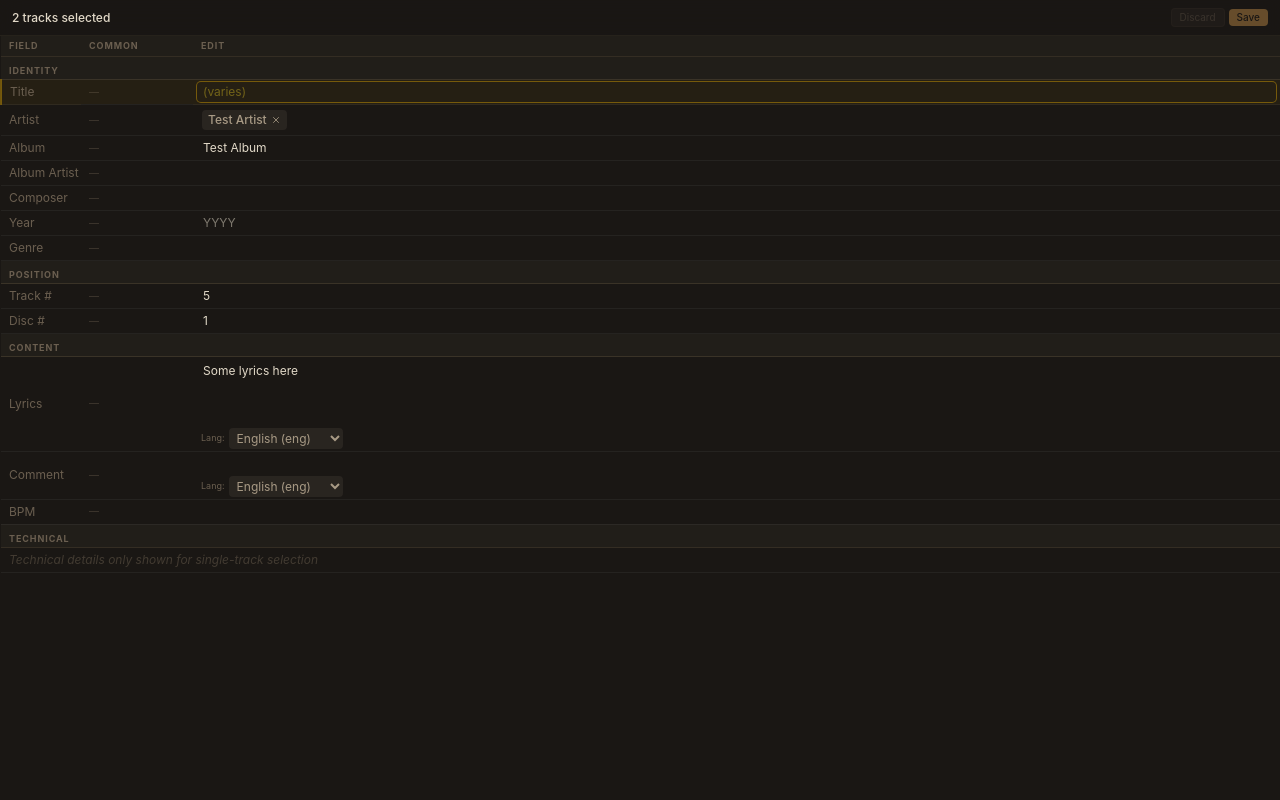
Test: TrackEditorPanel › multi-select divergence › editing a divergent field marks it as edited
Expected: the button "Save" is shown, [1229, 9, 1268, 26]
Type "New Title" into the field with placeholder "(varies)".
click(736, 92); type("New Title")  # box [197, 82, 1276, 102]
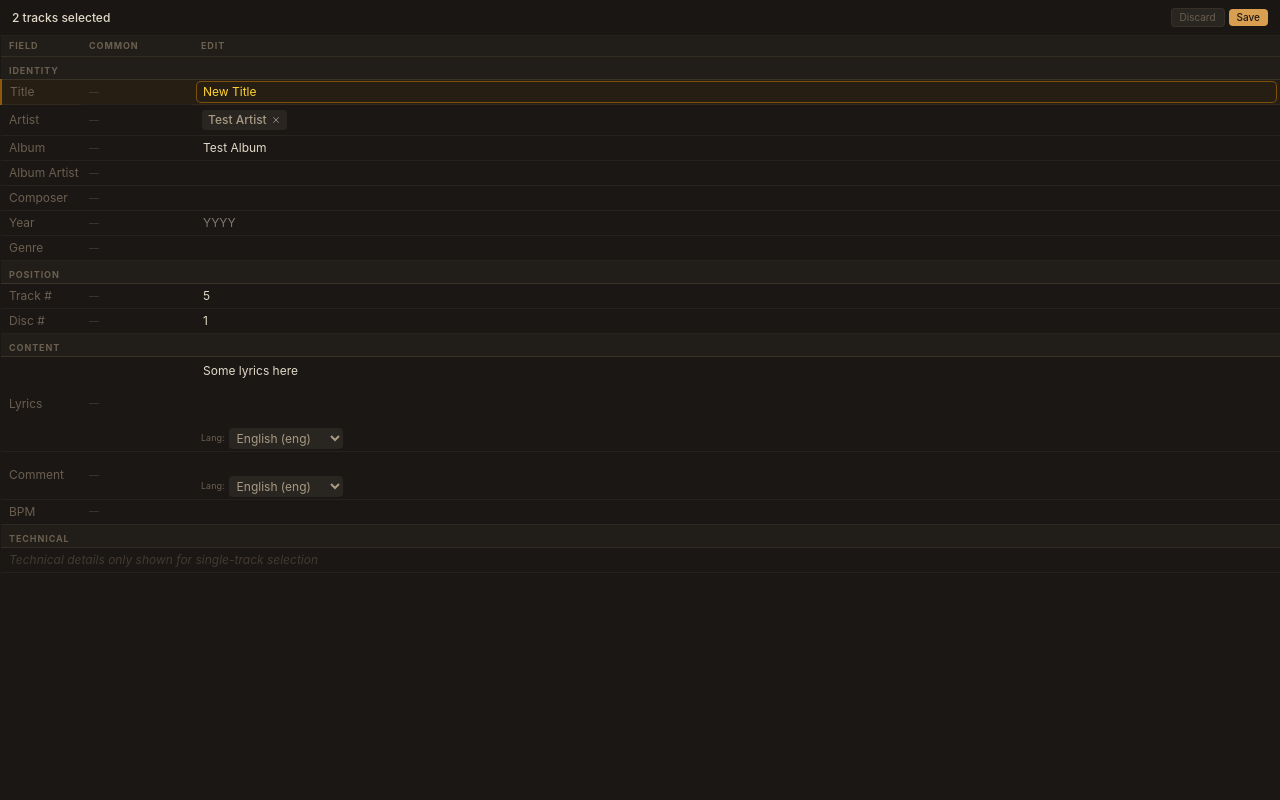
Expected: the button "Save" is enabled, [1229, 9, 1268, 26]
